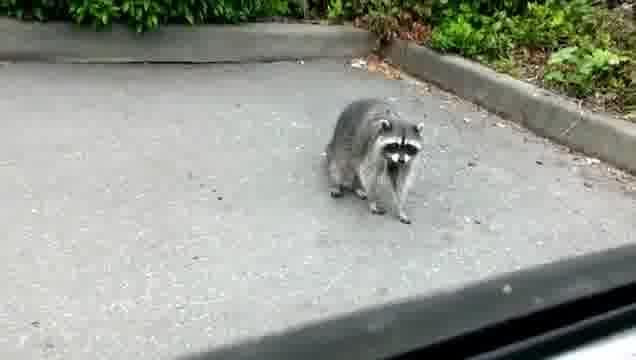raccoon: (323, 96, 426, 226)
